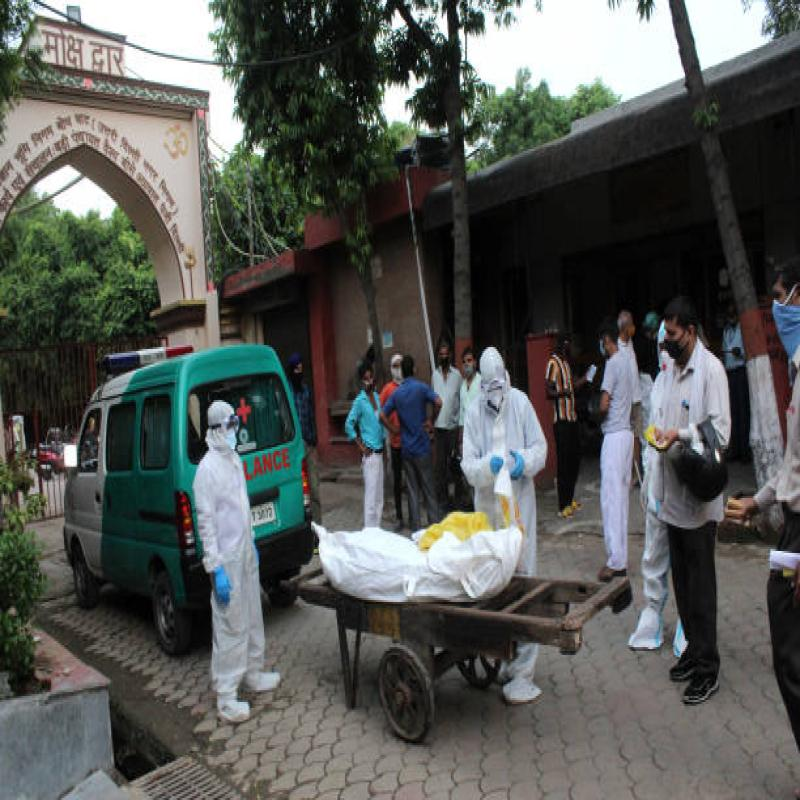ambulance: (79, 400, 292, 611)
